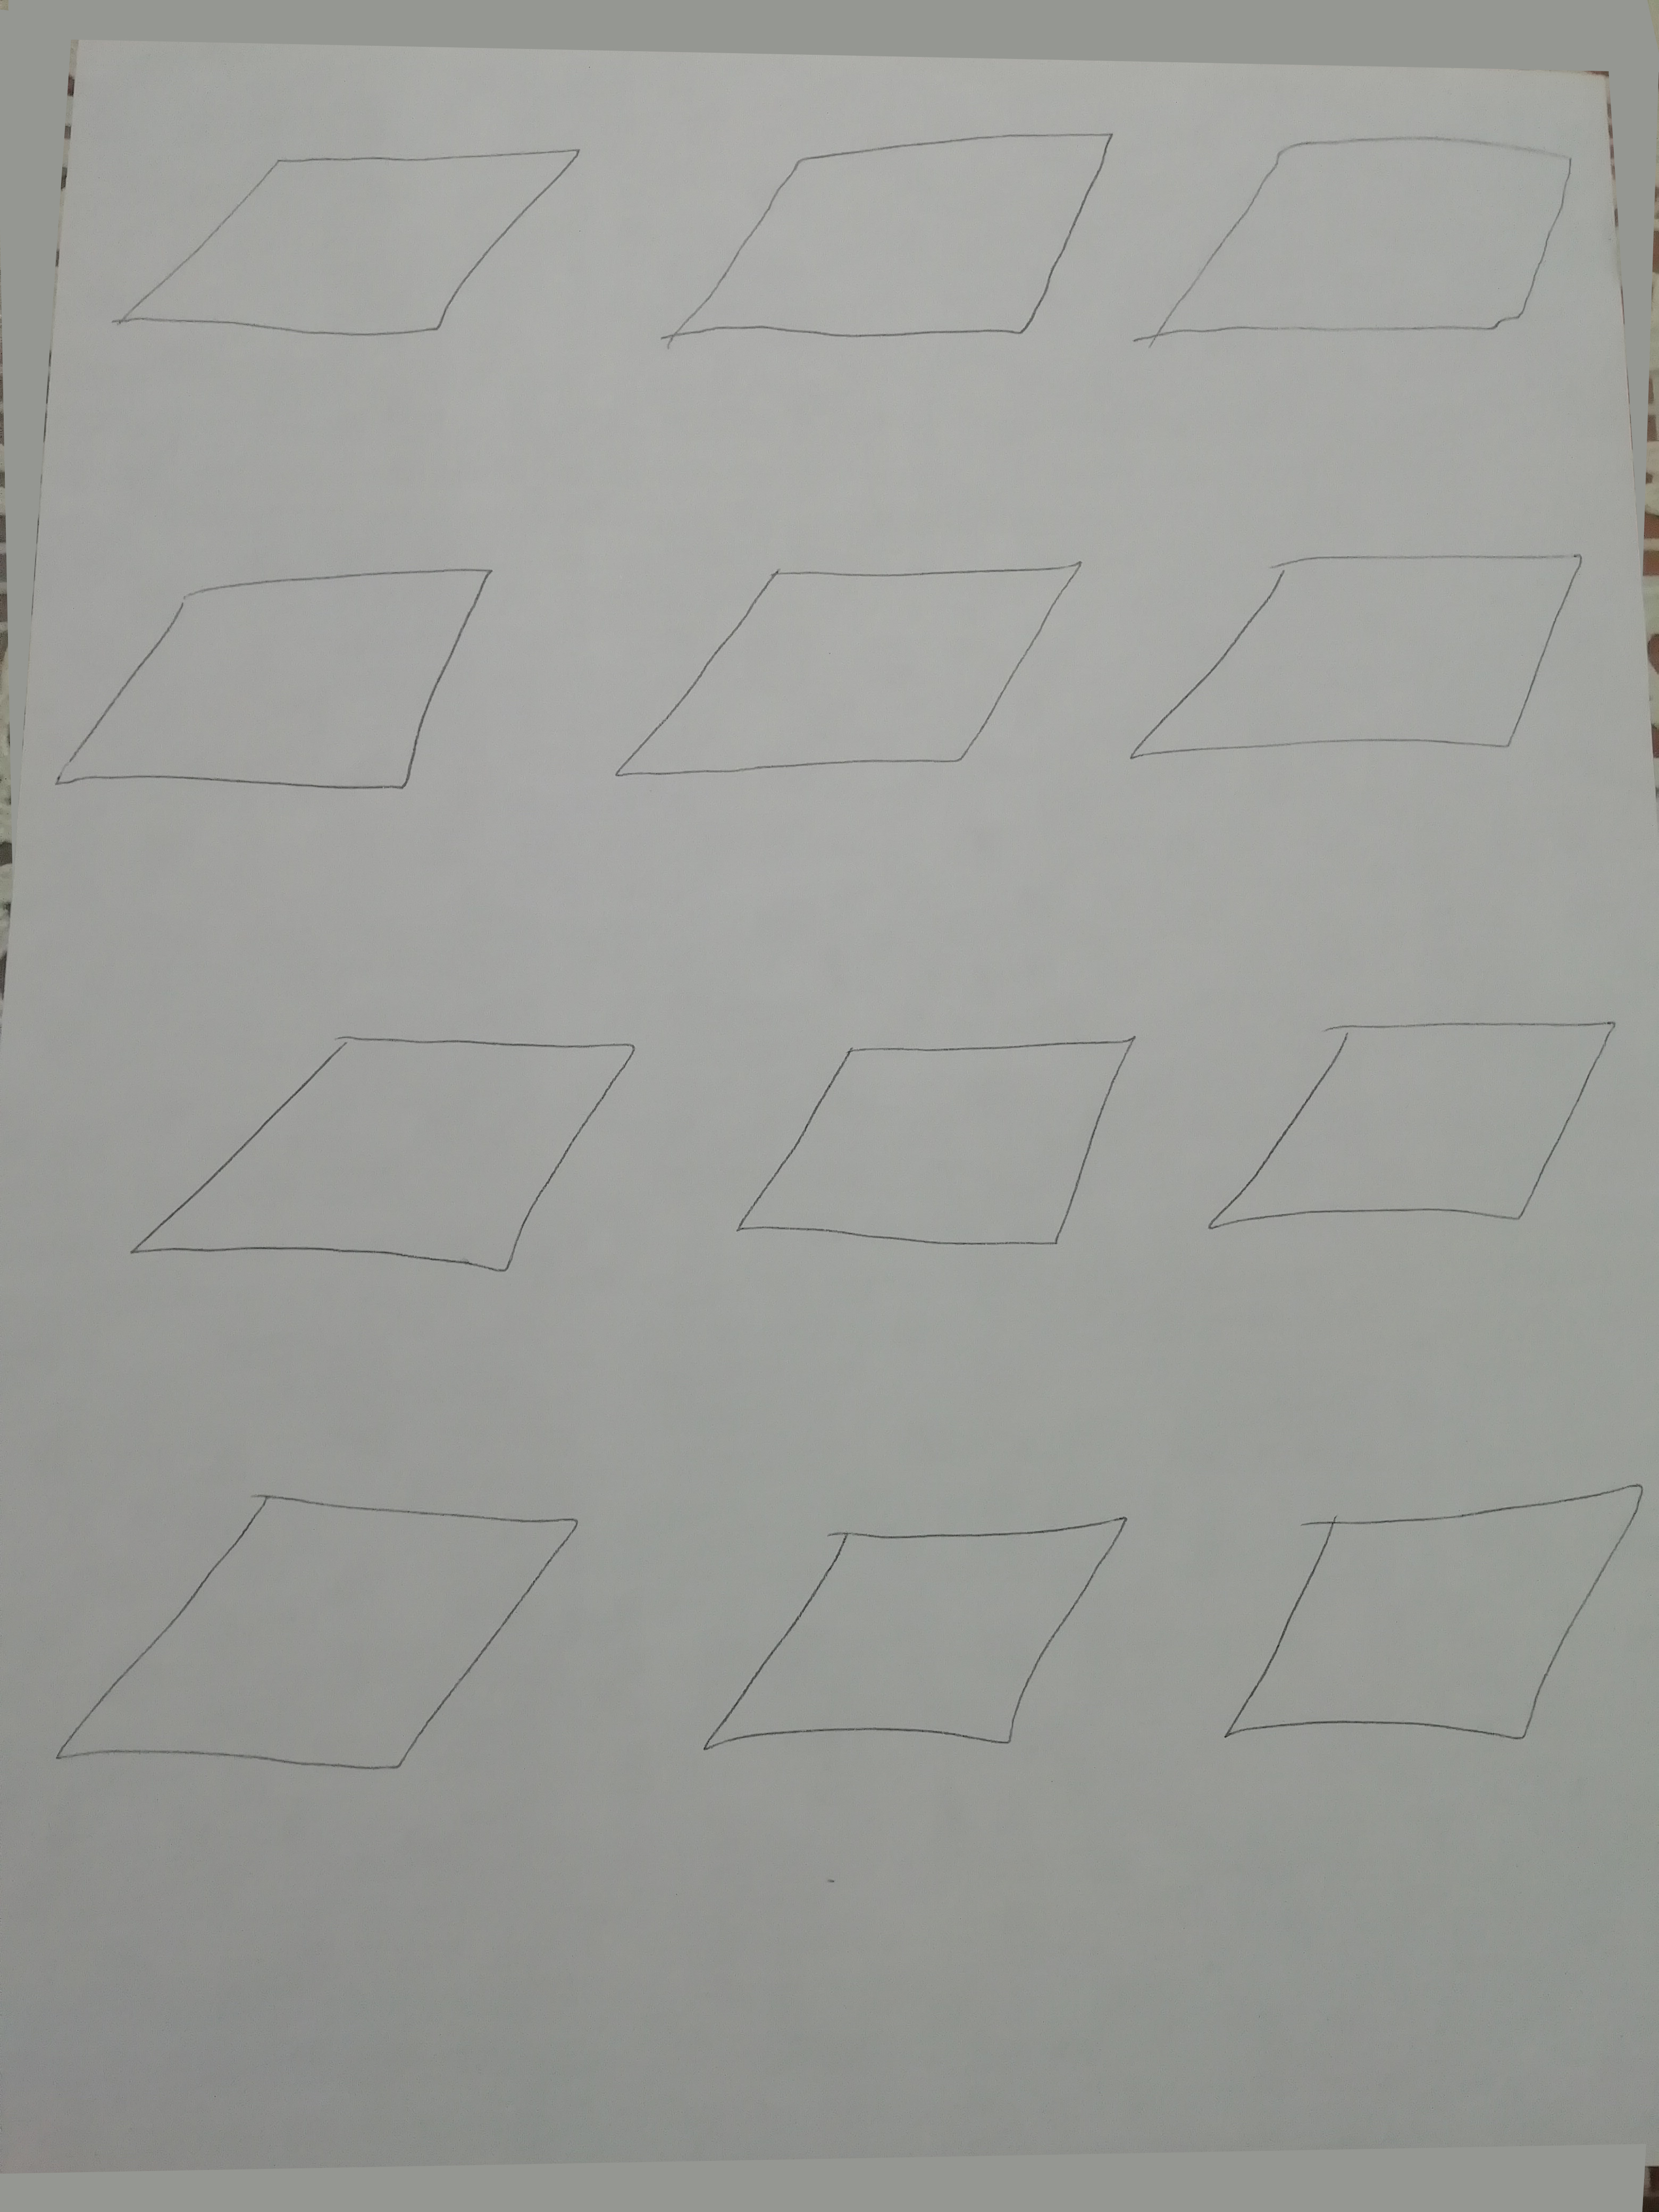scan: (19, 1475, 605, 1864), (94, 1000, 660, 1329), (561, 535, 1103, 850), (664, 1486, 1154, 1825), (19, 517, 523, 833), (1192, 1468, 1654, 1808), (1112, 528, 1614, 833), (643, 75, 1126, 357), (87, 127, 594, 383), (1188, 1003, 1657, 1280), (735, 1014, 1161, 1308), (1133, 110, 1589, 369)
